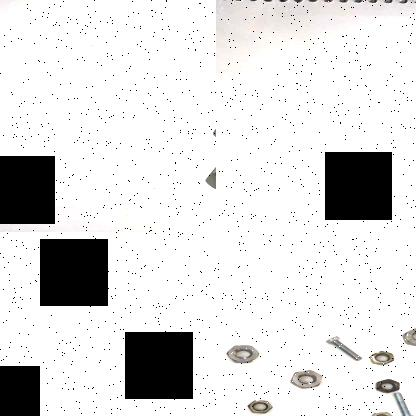Bolts: (317, 332, 366, 362), (381, 389, 416, 416)
NUTS: (286, 367, 326, 389), (225, 342, 261, 362), (356, 192, 390, 212), (244, 396, 276, 412), (370, 347, 394, 365), (370, 379, 401, 391), (401, 325, 416, 345), (371, 408, 397, 416), (207, 117, 216, 138)
